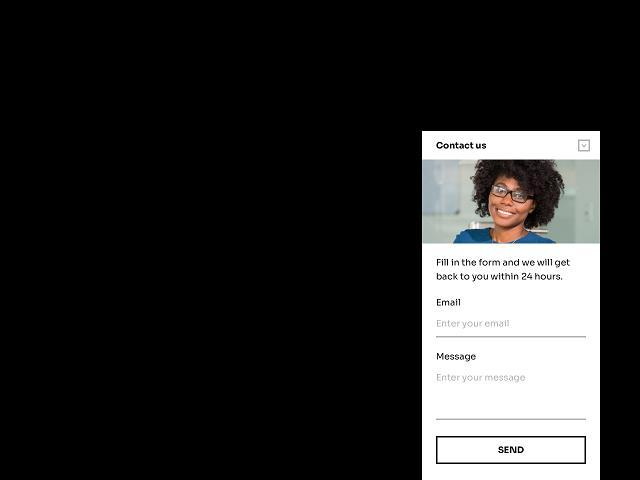button: (437, 437, 587, 463)
dropdown: (424, 133, 600, 160)
label: (434, 353, 481, 363), (437, 296, 463, 308)
